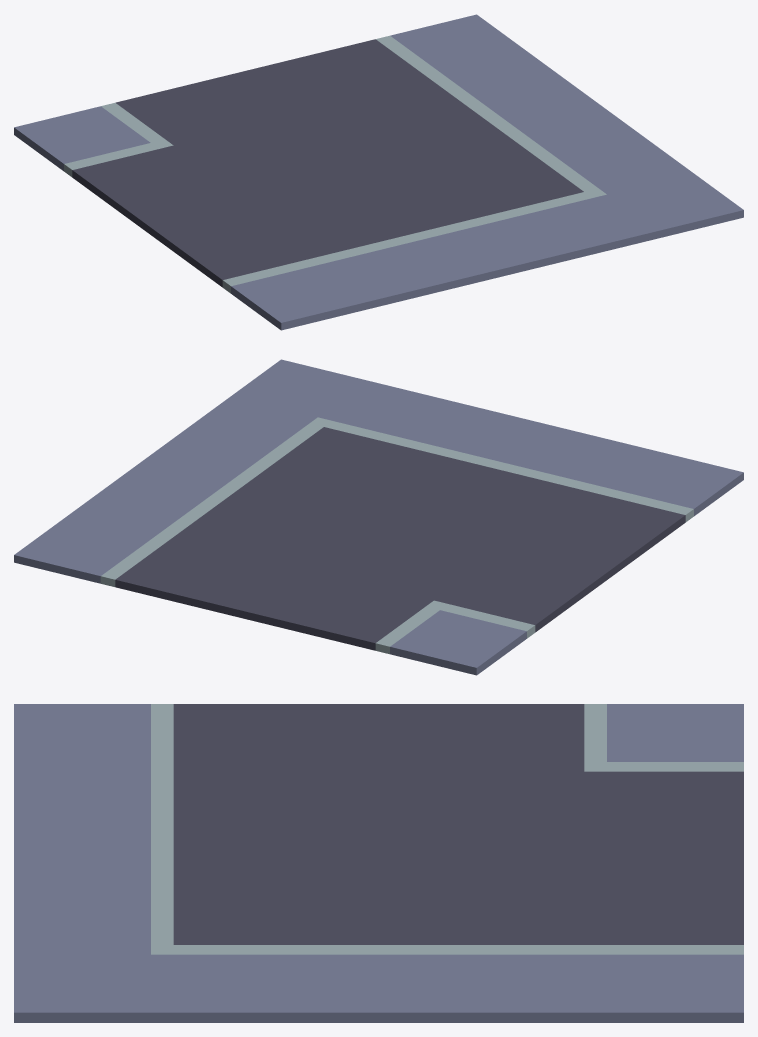
File: Ground_007.obj
The picture shows the model from 3 angles, top to bottom: view 1: azimuth 30°, elevation 25°; view 2: azimuth 150°, elevation 25°; view 3: azimuth 270°, elevation 25°; orthographic projection. The views are drawn at different scales.
Size of the model in its own units: 6.4 by 0.1 by 6.4.
Materials: 1 (1 with a texture image).
